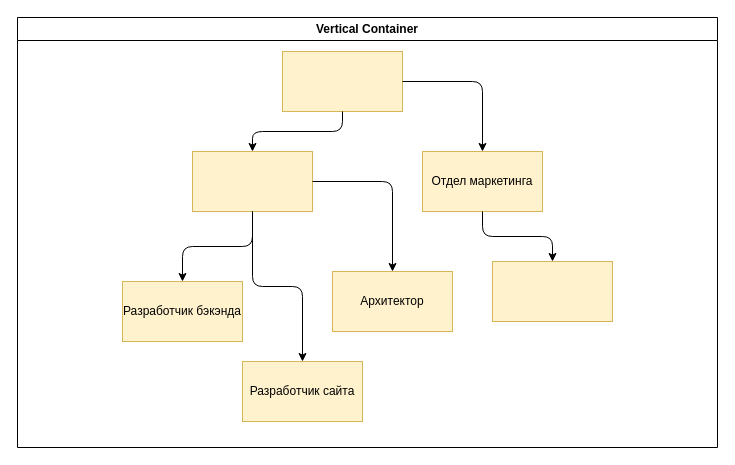
Image size: 735x465. Some labels were removed from this diagram. Each missing label, with the box of its shape:
Исполнительный директор: (282, 50, 402, 112)
Маркетолог: (492, 260, 612, 322)
Отдел разработки: (192, 150, 312, 212)
